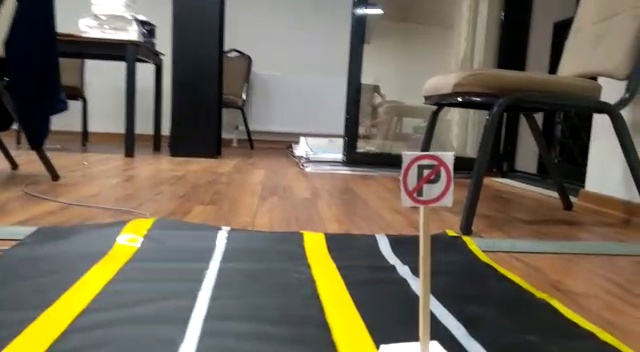park_yapilmaz: (402, 154, 458, 209)
